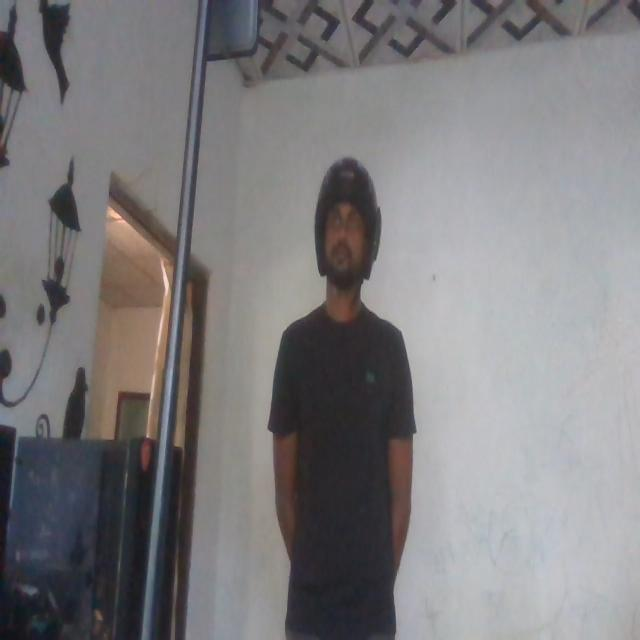Helmet_Wearer: (300, 153, 382, 305)
Person: (267, 156, 419, 640)
